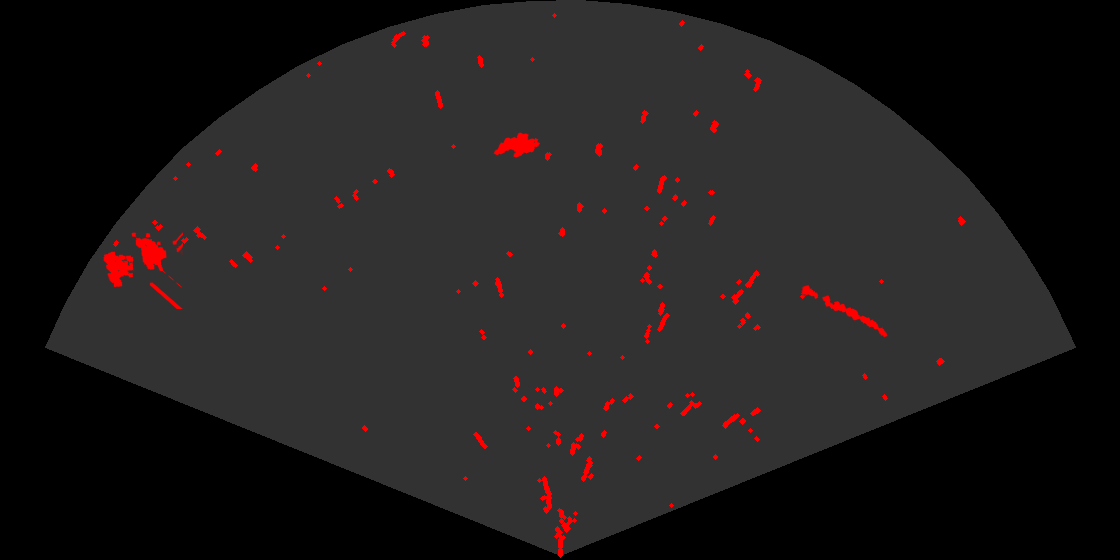AUV: (492, 131, 542, 159)
cage: (102, 231, 183, 309)
chain: (800, 284, 889, 339)
